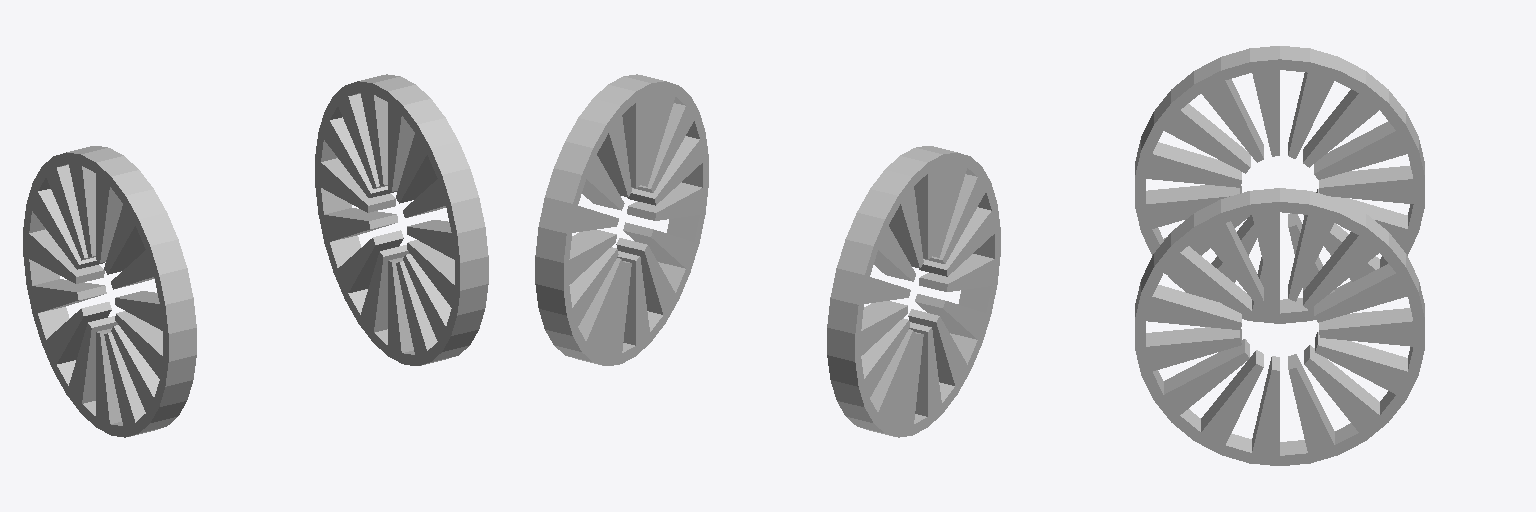
Rendered from big wheels.obj.
3 views of the same model, side by side, from view 1: azimuth 30°, elevation 25°; view 2: azimuth 150°, elevation 25°; view 3: azimuth 270°, elevation 25° (orthographic).
Parts seen in each view (by area): view 1: inner_wheel2 polySurface18, polySurface19 inner_wheel2; view 2: polySurface19 inner_wheel2, inner_wheel2 polySurface18; view 3: polySurface19 inner_wheel2, inner_wheel2 polySurface18.
Boxes of the visible parts, box(x1,y1,x2,y2) form: inner_wheel2 polySurface18: box(23, 146, 196, 437); polySurface19 inner_wheel2: box(315, 74, 488, 365); polySurface19 inner_wheel2: box(535, 74, 708, 365); inner_wheel2 polySurface18: box(827, 146, 1000, 437); polySurface19 inner_wheel2: box(1135, 188, 1424, 465); inner_wheel2 polySurface18: box(1135, 46, 1424, 323).
Bounding box in the file's own units: 5.48 × 4.33 × 4.31.